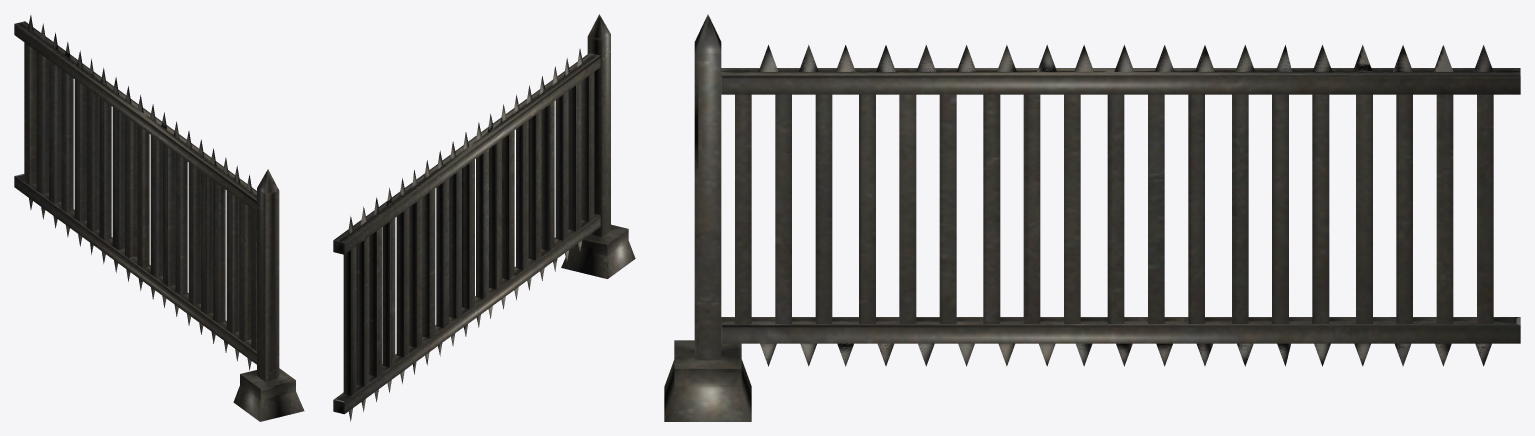
Rendered from fence_a.obj.
3 renders of one model, left to right at view 1: azimuth 30°, elevation 25°; view 2: azimuth 150°, elevation 25°; view 3: azimuth 270°, elevation 25°, orthographic. The views are drawn at different scales.
Parts seen in each view (by area): view 1: Group; view 2: Group; view 3: Group.
Part boxes in pixels (x1=…): Group: x1=14, y1=15, x2=304, y2=421; Group: x1=333, y1=14, x2=635, y2=421; Group: x1=664, y1=14, x2=1520, y2=421.
Size of the model in its own units: 12.46 by 63.8 by 127.
